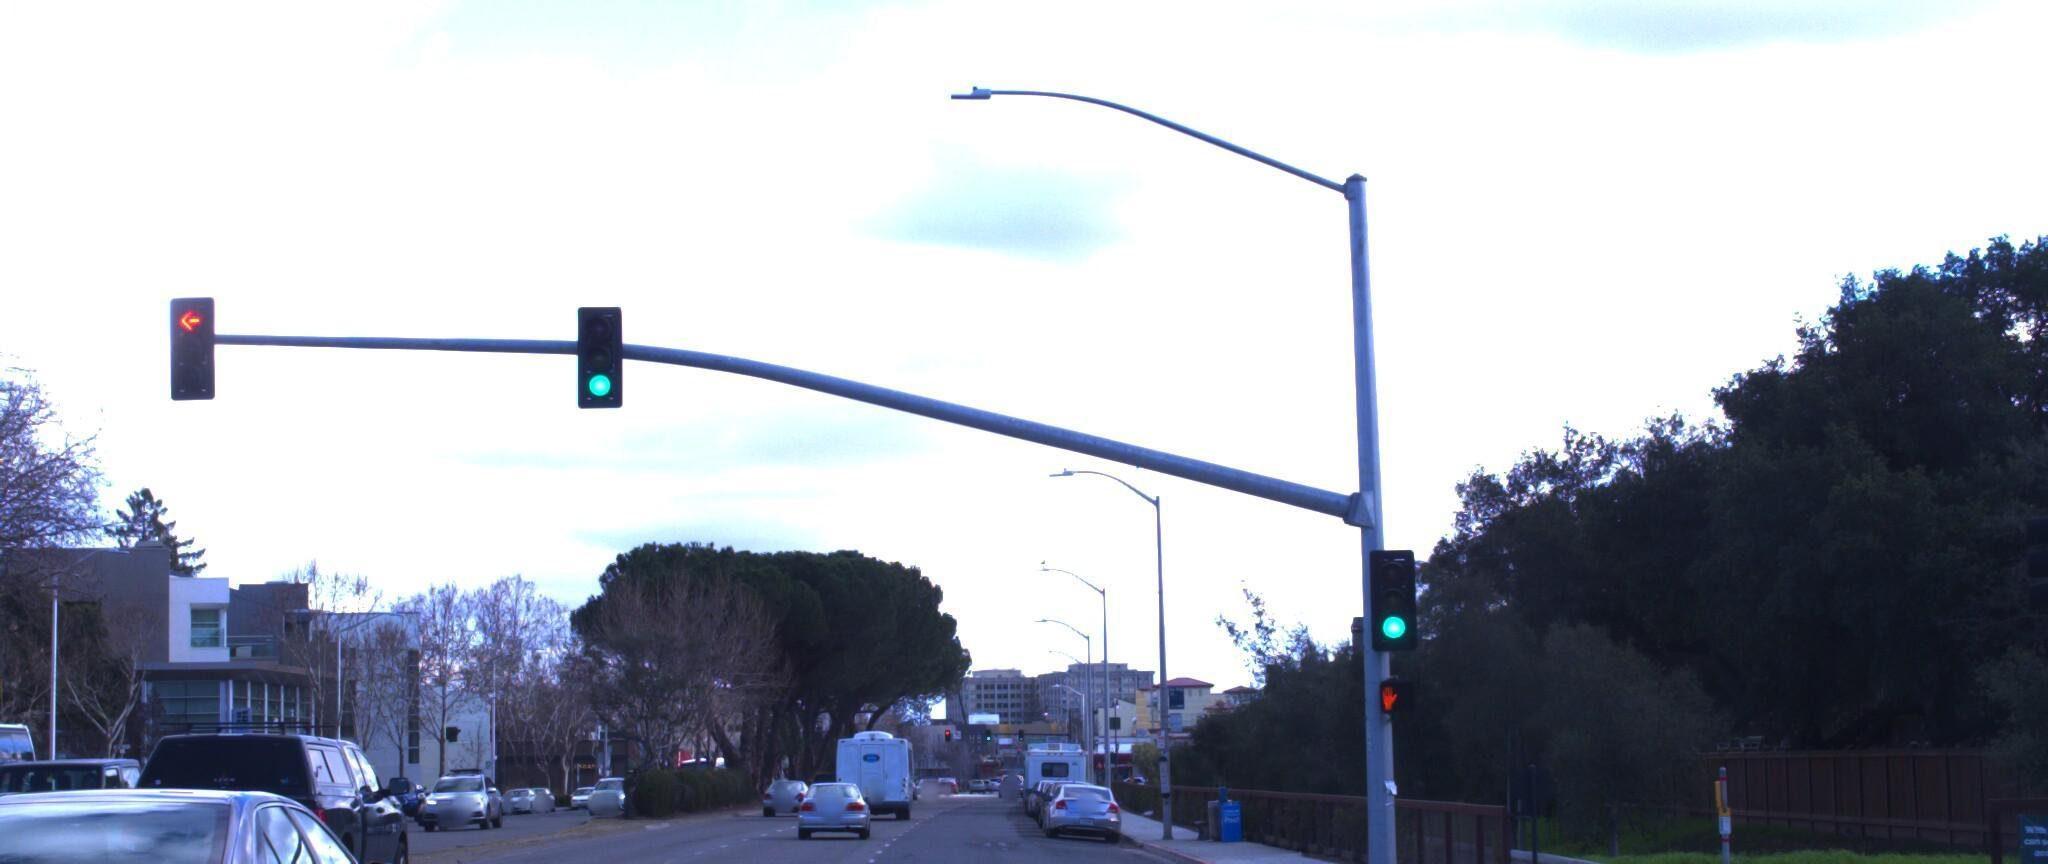bus: (0, 687, 61, 864)
car: (0, 737, 456, 864), (131, 702, 438, 864), (0, 741, 168, 864), (808, 760, 884, 827), (0, 777, 55, 864), (1044, 769, 1112, 821)
